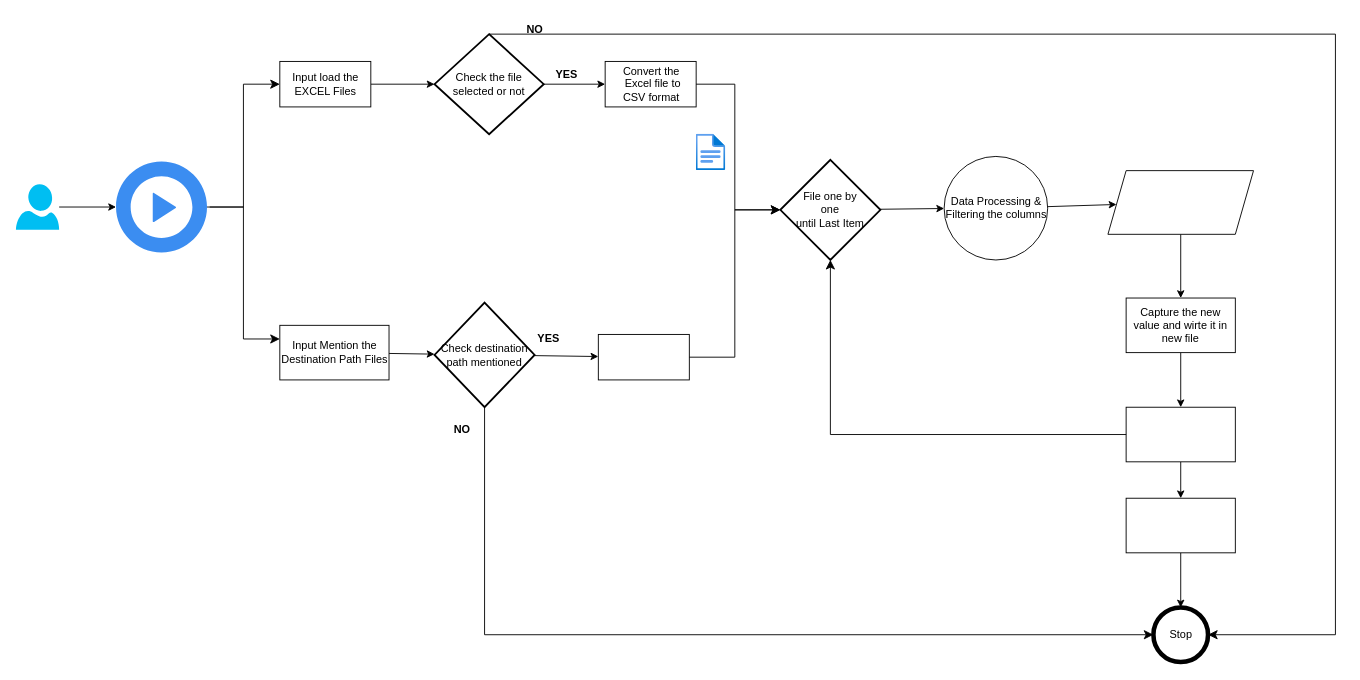
Image size: 1360x680. Some labels were removed from this diagram. Each missing label, with the centre of its shape:
"Create the output destination Folder" belongs at point 643,357.
"Display the Output File name" belongs at point 1180,525.
"Manipulating the data and calculate the values" belongs at point 1180,202.
"Store in the destination folder" belongs at point 1180,434.
